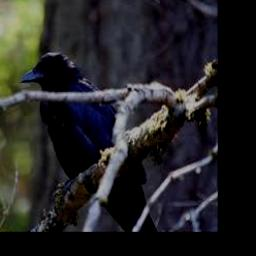Crow: (22, 51, 158, 232)
